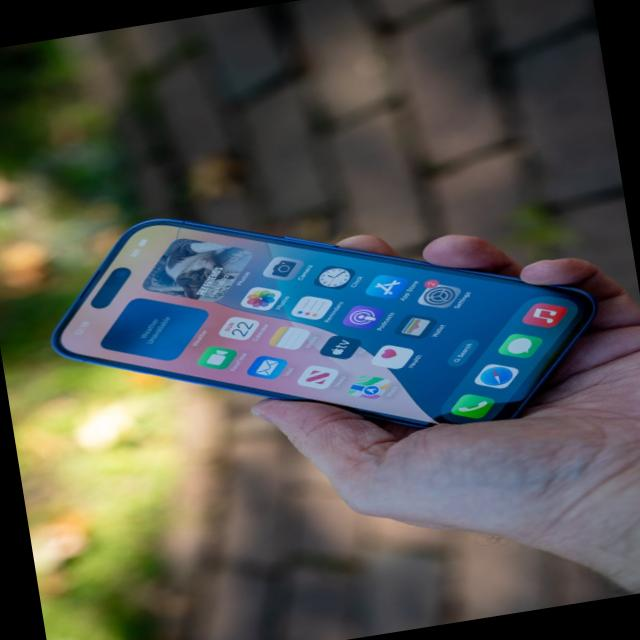mobile_phone: (44, 187, 636, 456)
